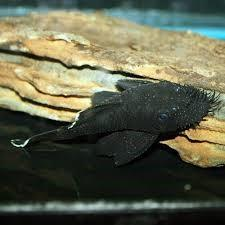Janitor Fish: (5, 72, 214, 166)
